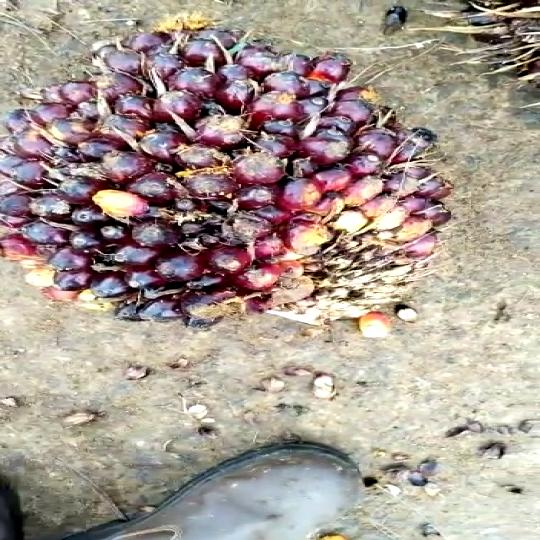mentah: (0, 17, 452, 318)
